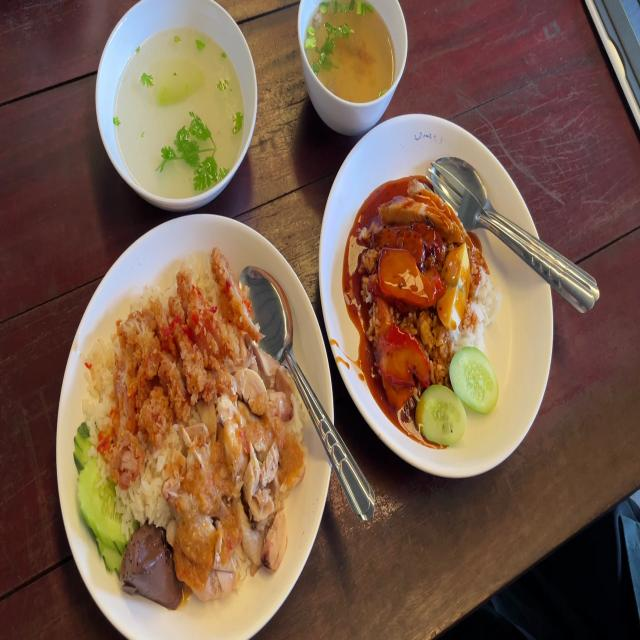boiled_chicken: (157, 338, 312, 611)
boiled_chicken_blood_jelly: (121, 520, 176, 606)
boiled_egg: (441, 243, 470, 333)
chainese_sausage: (382, 220, 444, 267)
chicken_rice: (72, 250, 315, 610)
crispy_pork: (372, 172, 466, 228)
cucumber: (75, 419, 122, 575), (417, 381, 468, 453), (456, 343, 494, 412)
fried_chicken: (88, 243, 269, 498)
red_pork: (372, 320, 429, 409), (379, 247, 437, 308)
red_pork_and_crispy_pork: (346, 178, 503, 449)
